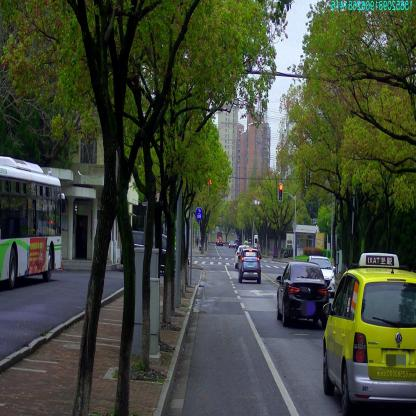traffic-light: (279, 184, 283, 200), (209, 178, 212, 195)
